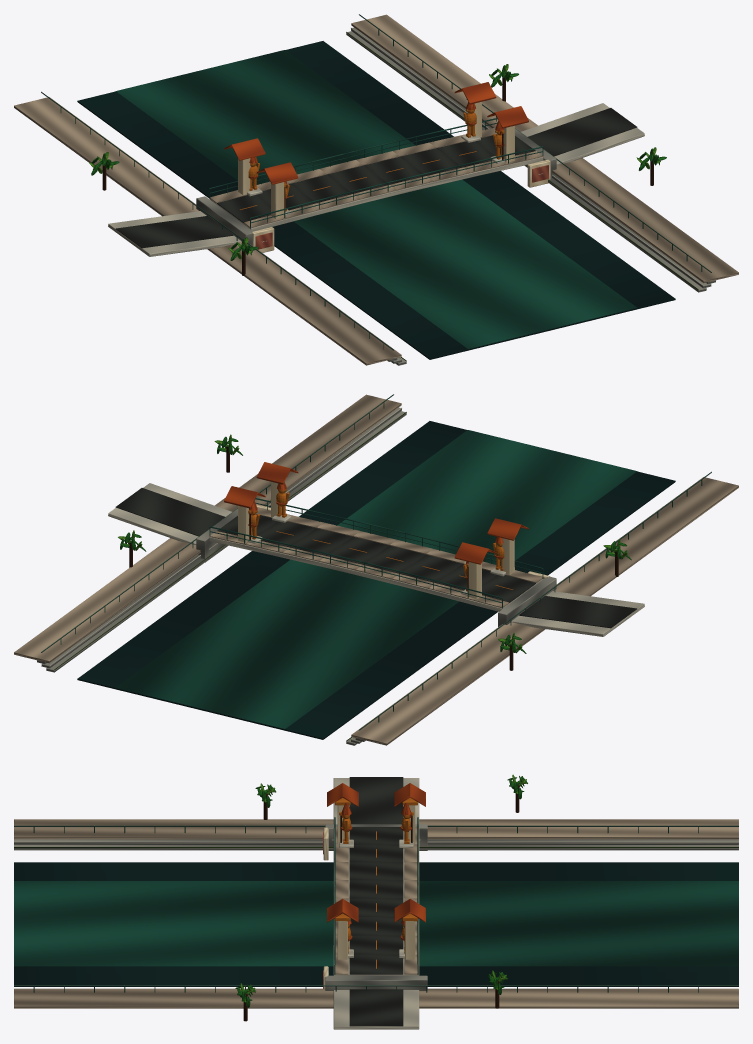
The model's file is HNP_Map007_BridgeCanal_LOD1_v003.fbx.
3 views of the same model, one above another, from view 1: azimuth 30°, elevation 25°; view 2: azimuth 150°, elevation 25°; view 3: azimuth 270°, elevation 25° (orthographic). The views are drawn at different scales.
Visible parts, largest first — view 1: MAP007_CANAL_LOD1_S0_MAT_Canal_Water, MAP007_CANAL_LOD1_S0_MAT_Canal_Water_Deep, MAP007_CANAL_LOD1_S-1_MAT_Forecourt_Paver, MAP007_CANAL_LOD1_S1_MAT_Forecourt_Paver, MAP007_CANAL_LOD1_S1_MAT_Concrete_Aged, MAP007_CANAL_LOD1_S1_MAT_Asphalt, MAP007_CANAL_LOD1_S-1_MAT_Asphalt, MAP007_CANAL_LOD1_S0_MAT_Asphalt, MAP007_CANAL_LOD1_S1_MAT_Concrete_Light, MAP007_CANAL_LOD1_S0_MAT_Forecourt_Paver, MAP007_CANAL_LOD1_S0_MAT_Painted_Steel_Green, MAP007_CANAL_LOD1_S-1_MAT_Concrete_Light (+8 smaller); view 2: MAP007_CANAL_LOD1_S0_MAT_Canal_Water, MAP007_CANAL_LOD1_S0_MAT_Canal_Water_Deep, MAP007_CANAL_LOD1_S-1_MAT_Forecourt_Paver, MAP007_CANAL_LOD1_S1_MAT_Forecourt_Paver, MAP007_CANAL_LOD1_S1_MAT_Concrete_Aged, MAP007_CANAL_LOD1_S1_MAT_Asphalt, MAP007_CANAL_LOD1_S-1_MAT_Asphalt, MAP007_CANAL_LOD1_S0_MAT_Asphalt, MAP007_CANAL_LOD1_S1_MAT_Concrete_Light, MAP007_CANAL_LOD1_S0_MAT_Forecourt_Paver, MAP007_CANAL_LOD1_S0_MAT_Painted_Steel_Green, MAP007_CANAL_LOD1_S-1_MAT_Concrete_Light (+8 smaller); view 3: MAP007_CANAL_LOD1_S0_MAT_Canal_Water, MAP007_CANAL_LOD1_S0_MAT_Canal_Water_Deep, MAP007_CANAL_LOD1_S1_MAT_Forecourt_Paver, MAP007_CANAL_LOD1_S-1_MAT_Forecourt_Paver, MAP007_CANAL_LOD1_S-1_MAT_Concrete_Aged, MAP007_CANAL_LOD1_S-1_MAT_Asphalt, MAP007_CANAL_LOD1_S1_MAT_Asphalt, MAP007_CANAL_LOD1_S0_MAT_Asphalt, MAP007_CANAL_LOD1_S-1_MAT_Concrete_Light, MAP007_CANAL_LOD1_S1_MAT_Concrete_Light, MAP007_CANAL_LOD1_S1_MAT_Painted_Steel_Green, MAP007_CANAL_LOD1_S1_MAT_Concrete_Aged (+10 smaller).
Part boxes in pixels (x1,y1,x2,y2): MAP007_CANAL_LOD1_S0_MAT_Canal_Water: (115,50,636,348); MAP007_CANAL_LOD1_S0_MAT_Canal_Water_Deep: (77,41,675,359); MAP007_CANAL_LOD1_S-1_MAT_Forecourt_Paver: (14,97,401,365); MAP007_CANAL_LOD1_S1_MAT_Forecourt_Paver: (351,14,738,283); MAP007_CANAL_LOD1_S1_MAT_Concrete_Aged: (346,27,715,292); MAP007_CANAL_LOD1_S1_MAT_Asphalt: (437,108,637,167); MAP007_CANAL_LOD1_S-1_MAT_Asphalt: (116,184,315,248); MAP007_CANAL_LOD1_S0_MAT_Asphalt: (290,148,462,203); MAP007_CANAL_LOD1_S1_MAT_Concrete_Light: (351,27,707,285); MAP007_CANAL_LOD1_S0_MAT_Forecourt_Paver: (287,142,469,208); MAP007_CANAL_LOD1_S0_MAT_Painted_Steel_Green: (209,118,543,222); MAP007_CANAL_LOD1_S-1_MAT_Concrete_Light: (108,187,402,359); MAP007_CANAL_LOD1_S0_MAT_Canal_Water: (116,430,637,728); MAP007_CANAL_LOD1_S0_MAT_Canal_Water_Deep: (77,421,675,739); MAP007_CANAL_LOD1_S-1_MAT_Forecourt_Paver: (351,477,738,745); MAP007_CANAL_LOD1_S1_MAT_Forecourt_Paver: (14,394,401,663); MAP007_CANAL_LOD1_S1_MAT_Concrete_Aged: (37,407,406,672); MAP007_CANAL_LOD1_S1_MAT_Asphalt: (115,488,315,547); MAP007_CANAL_LOD1_S-1_MAT_Asphalt: (437,564,636,628); MAP007_CANAL_LOD1_S0_MAT_Asphalt: (290,528,462,582); MAP007_CANAL_LOD1_S1_MAT_Concrete_Light: (45,407,401,665); MAP007_CANAL_LOD1_S0_MAT_Forecourt_Paver: (283,522,465,588); MAP007_CANAL_LOD1_S0_MAT_Painted_Steel_Green: (209,498,543,602); MAP007_CANAL_LOD1_S-1_MAT_Concrete_Light: (350,567,644,739); MAP007_CANAL_LOD1_S0_MAT_Canal_Water: (14,881,738,966); MAP007_CANAL_LOD1_S0_MAT_Canal_Water_Deep: (14,862,738,986); MAP007_CANAL_LOD1_S1_MAT_Forecourt_Paver: (14,935,738,1008); MAP007_CANAL_LOD1_S-1_MAT_Forecourt_Paver: (14,819,738,862); MAP007_CANAL_LOD1_S-1_MAT_Concrete_Aged: (14,824,738,850); MAP007_CANAL_LOD1_S-1_MAT_Asphalt: (349,777,403,862); MAP007_CANAL_LOD1_S1_MAT_Asphalt: (349,935,403,1026); MAP007_CANAL_LOD1_S0_MAT_Asphalt: (349,862,403,935); MAP007_CANAL_LOD1_S-1_MAT_Concrete_Light: (14,778,738,848); MAP007_CANAL_LOD1_S1_MAT_Concrete_Light: (333,949,419,1029); MAP007_CANAL_LOD1_S1_MAT_Painted_Steel_Green: (14,964,738,992); MAP007_CANAL_LOD1_S1_MAT_Concrete_Aged: (325,975,427,990).
Bounding box in the file's own units: 5846 × 855 × 7200.
